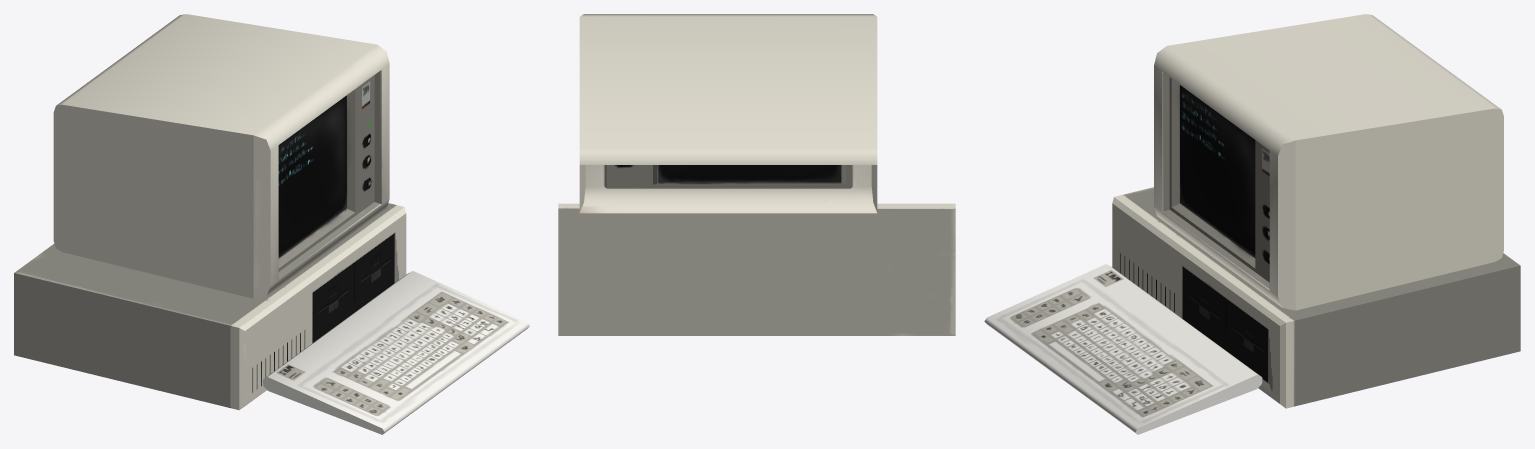
File: Computer.FBX
3 renders of one model, left to right at view 1: azimuth 30°, elevation 25°; view 2: azimuth 150°, elevation 25°; view 3: azimuth 270°, elevation 25°, orthographic. The views are drawn at different scales.
Parts seen in each view (by area): view 1: Box002; view 2: Box002; view 3: Box002.
Boxes of the visible parts, x1,y1,x2,y2 form: Box002: (14,14,529,434); Box002: (558,14,955,335); Box002: (984,14,1520,434).
Bounding box in the file's own units: 28.9 × 16.48 × 31.17.
